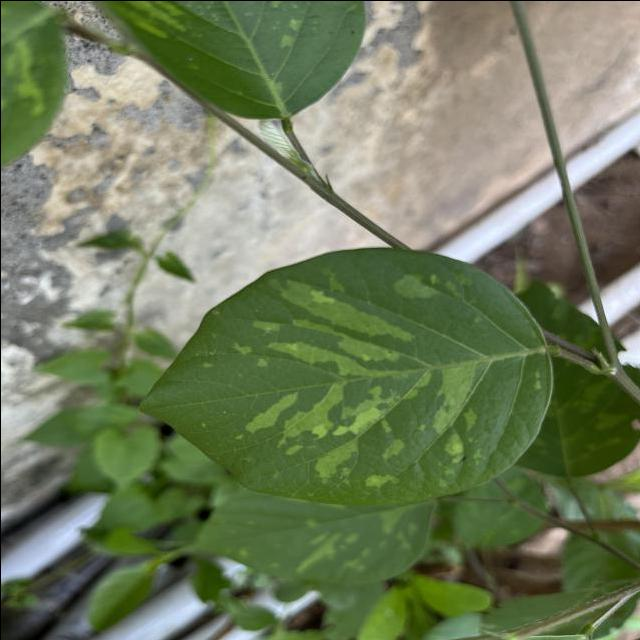Desmodium gangeticum: (132, 242, 560, 510)
